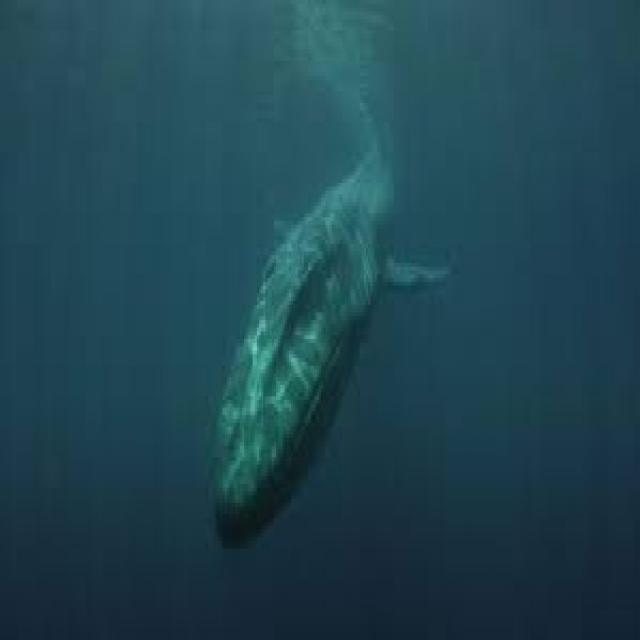blue_whale: (172, 76, 462, 575)
